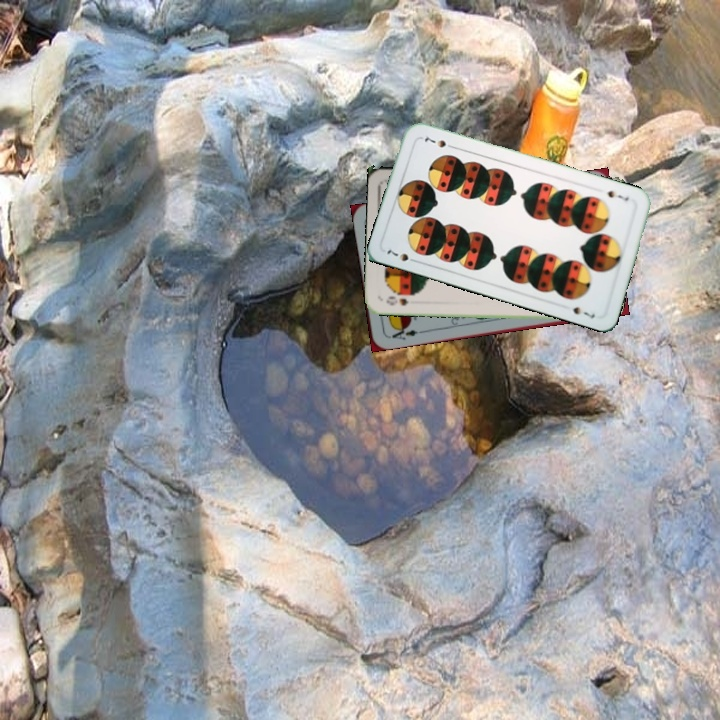EA: (384, 322, 425, 342)
S7: (382, 246, 421, 266), (603, 186, 631, 204)
SO: (382, 291, 418, 308)
